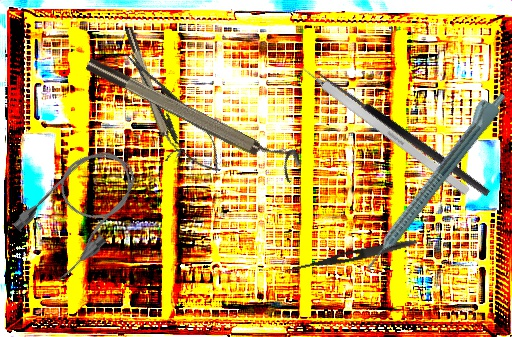Cannula: (4, 133, 157, 288)
Dressing Forceps: (284, 236, 418, 277)
Fixation Ring: (83, 44, 305, 184), (122, 24, 183, 162)
Handpiece: (354, 84, 510, 274)
Hook Surgical: (285, 53, 471, 197), (306, 67, 492, 206)
Needle Holder: (115, 43, 234, 183)
